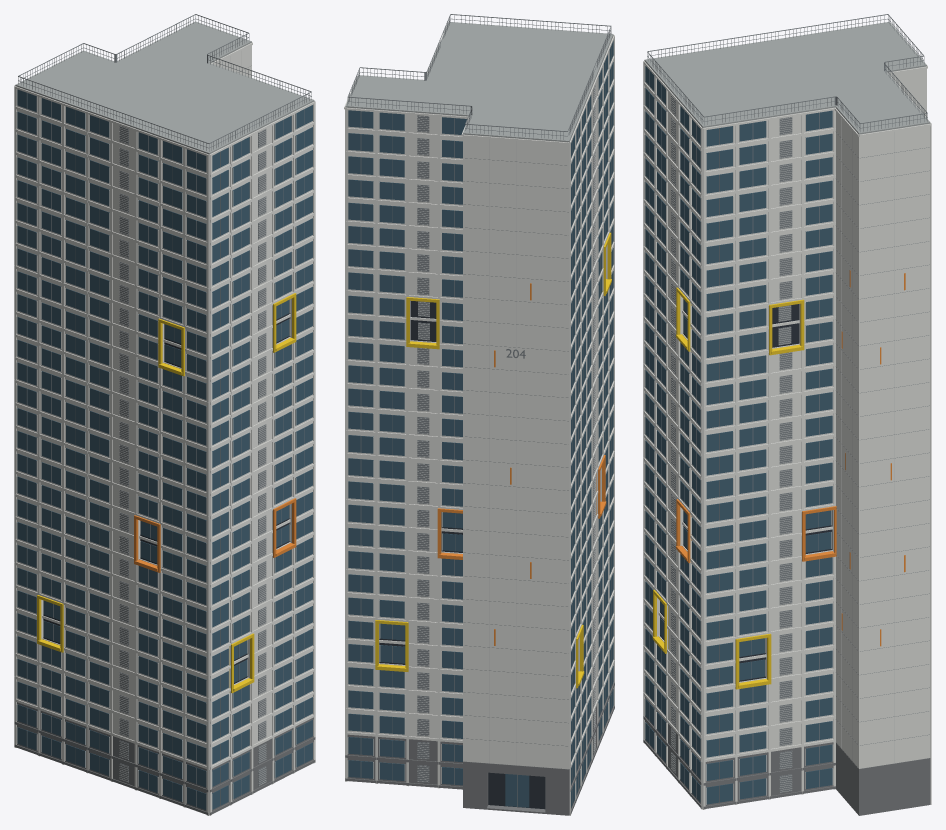
File: bespoke-songpa-helio-city-204.glb
The picture shows the model from 3 angles, left to right: view 1: azimuth 30°, elevation 25°; view 2: azimuth 150°, elevation 25°; view 3: azimuth 270°, elevation 25°; orthographic projection. The views are drawn at different scales.
Visible parts, largest first — view 1: Helio204_editable_Helio204_dark_blue_grey_glazing, Helio204_editable_Helio204_white_slab_frames, Helio204_editable_Helio204_low_roof_deck, Helio204_editable_Helio204_grey_service_grille, Helio204_editable_Helio204_dark_grey_twofloor_base, Helio204_editable_Helio204_blankwall_grey_panels, Helio204_editable_Helio204_yellow_projecting_rectangular_fra, Helio204_editable_Helio204_orange_narrow_accent, Helio204_editable_Helio204_deep_shaded_frame_recess; view 2: Helio204_editable_Helio204_white_slab_frames, Helio204_editable_Helio204_dark_blue_grey_glazing, Helio204_editable_Helio204_low_roof_deck, Helio204_editable_Helio204_grey_service_grille, Helio204_editable_Helio204_dark_grey_twofloor_base, Helio204_editable_Helio204_blankwall_grey_panels, Helio204_editable_Helio204_yellow_projecting_rectangular_fra, Helio204_editable_Helio204_deep_shaded_frame_recess, Helio204_editable_Helio204_orange_narrow_accent; view 3: Helio204_editable_Helio204_white_slab_frames, Helio204_editable_Helio204_dark_blue_grey_glazing, Helio204_editable_Helio204_low_roof_deck, Helio204_editable_Helio204_grey_service_grille, Helio204_editable_Helio204_dark_grey_twofloor_base, Helio204_editable_Helio204_blankwall_grey_panels, Helio204_editable_Helio204_yellow_projecting_rectangular_fra, Helio204_editable_Helio204_orange_narrow_accent, Helio204_editable_Helio204_deep_shaded_frame_recess.
Part boxes in pixels (x1,y1,x2,y2): Helio204_editable_Helio204_dark_blue_grey_glazing: [17, 89, 312, 809]; Helio204_editable_Helio204_white_slab_frames: [14, 42, 315, 815]; Helio204_editable_Helio204_low_roof_deck: [15, 21, 314, 154]; Helio204_editable_Helio204_grey_service_grille: [18, 14, 311, 806]; Helio204_editable_Helio204_dark_grey_twofloor_base: [14, 702, 315, 814]; Helio204_editable_Helio204_blankwall_grey_panels: [119, 51, 266, 785]; Helio204_editable_Helio204_yellow_projecting_rectangular_fra: [37, 293, 296, 693]; Helio204_editable_Helio204_orange_narrow_accent: [134, 498, 296, 572]; Helio204_editable_Helio204_deep_shaded_frame_recess: [43, 313, 289, 683]; Helio204_editable_Helio204_white_slab_frames: [344, 23, 614, 815]; Helio204_editable_Helio204_dark_blue_grey_glazing: [348, 40, 613, 807]; Helio204_editable_Helio204_low_roof_deck: [345, 22, 613, 142]; Helio204_editable_Helio204_grey_service_grille: [347, 14, 611, 806]; Helio204_editable_Helio204_dark_grey_twofloor_base: [345, 678, 614, 815]; Helio204_editable_Helio204_blankwall_grey_panels: [417, 84, 595, 782]; Helio204_editable_Helio204_yellow_projecting_rectangular_fra: [375, 232, 611, 688]; Helio204_editable_Helio204_deep_shaded_frame_recess: [379, 301, 545, 809]; Helio204_editable_Helio204_orange_narrow_accent: [437, 283, 606, 645]; Helio204_editable_Helio204_white_slab_frames: [643, 23, 931, 809]; Helio204_editable_Helio204_dark_blue_grey_glazing: [645, 66, 832, 804]; Helio204_editable_Helio204_low_roof_deck: [644, 22, 930, 134]; Helio204_editable_Helio204_grey_service_grille: [647, 14, 929, 802]; Helio204_editable_Helio204_dark_grey_twofloor_base: [643, 697, 930, 815]; Helio204_editable_Helio204_blankwall_grey_panels: [671, 95, 894, 792]; Helio204_editable_Helio204_yellow_projecting_rectangular_fra: [652, 287, 804, 689]; Helio204_editable_Helio204_orange_narrow_accent: [676, 270, 905, 646]; Helio204_editable_Helio204_deep_shaded_frame_recess: [660, 304, 832, 681].
Bounding box in the file's own units: 28.73 × 82.2 × 31.05.
